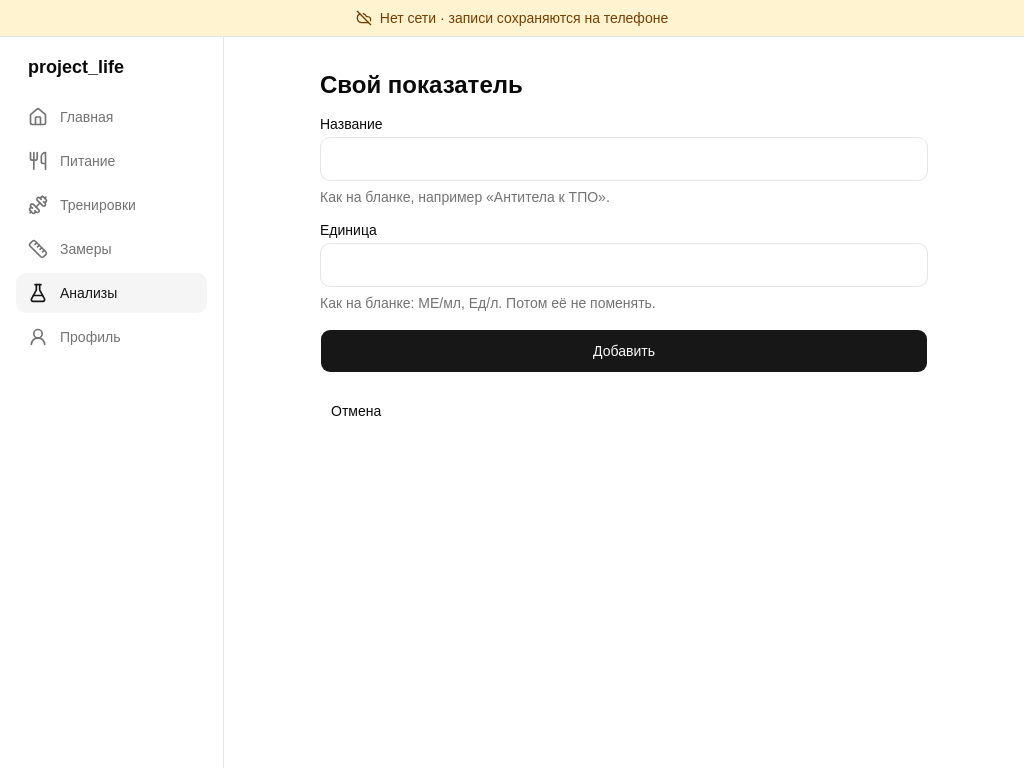
Test: свой показатель создаётся без сети и открывает форму значения с заданной единицей
Type "Кортизол свой" into the field labelled "Название".
click(624, 159); type("Кортизол свой")  # box [320,137,928,181]
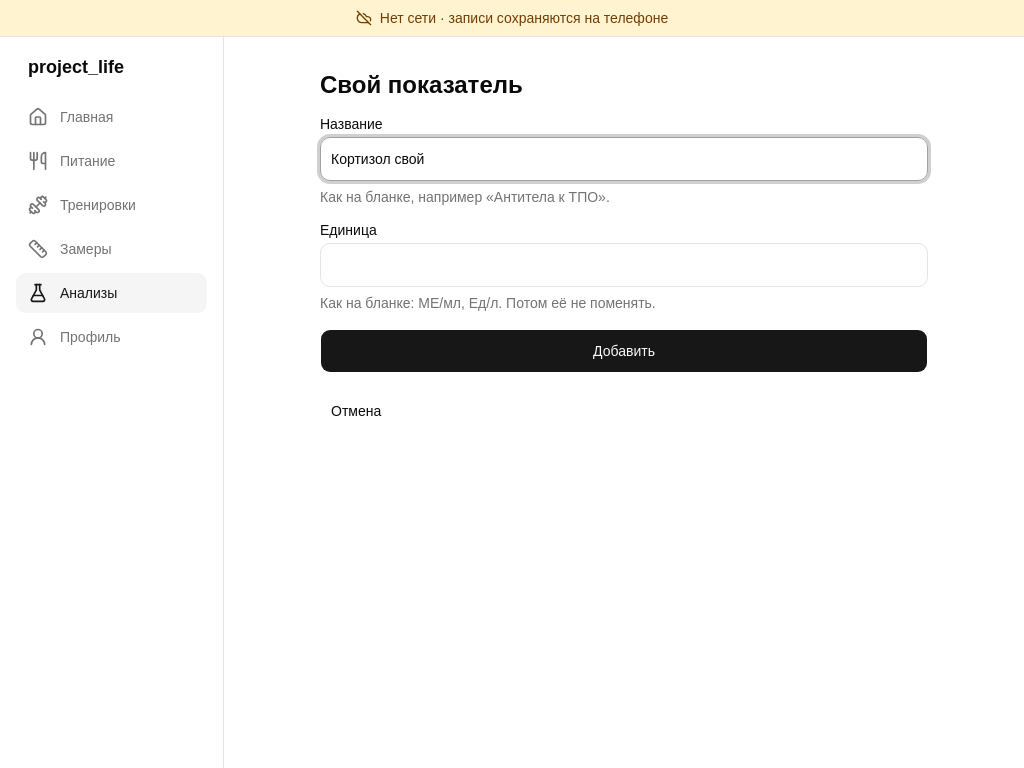
Type "мкг/дл" into the field labelled "Единица".
click(624, 265); type("мкг/дл")  # box [320,243,928,287]
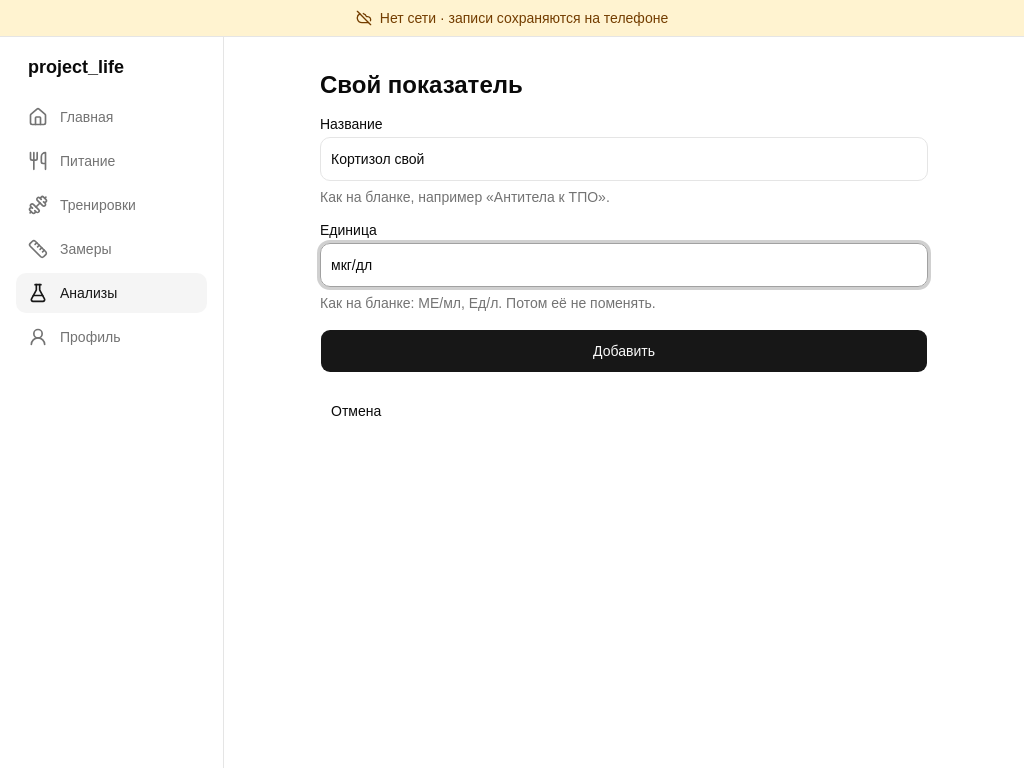
Click the button "Добавить".
click(624, 351)  # box [320,329,928,373]
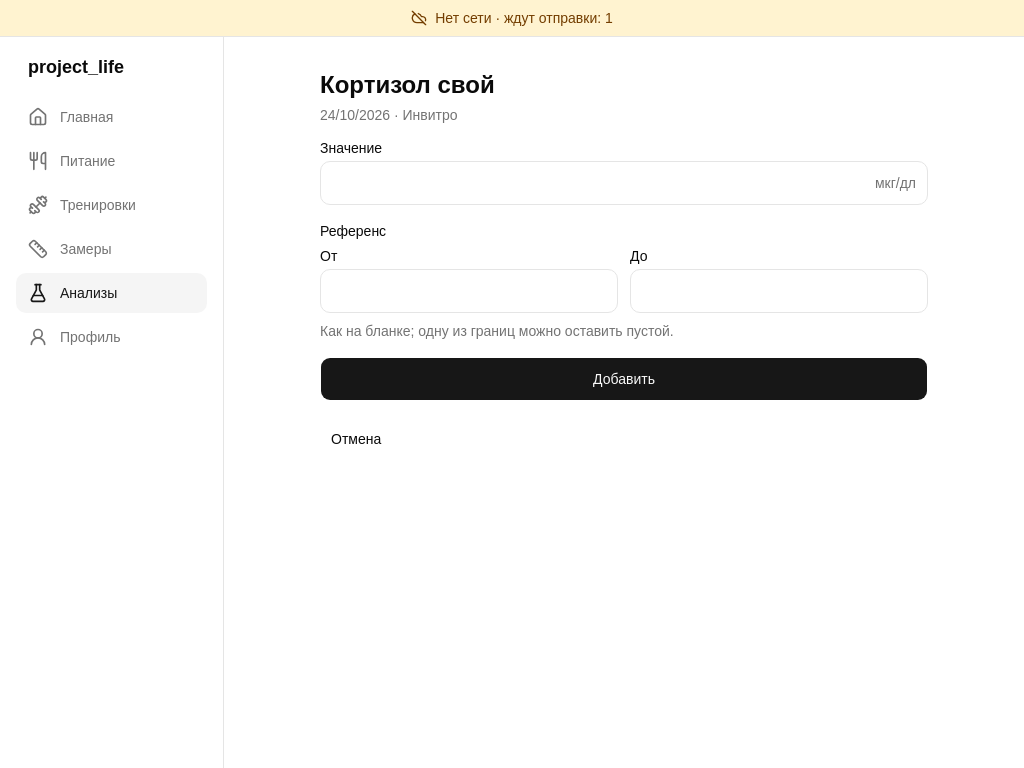
expect the heading "Кортизол свой" is shown: met, box [320,71,495,98]
Type "9.5" into the field labelled "Значение".
click(624, 183); type("9.5")  # box [320,161,928,205]
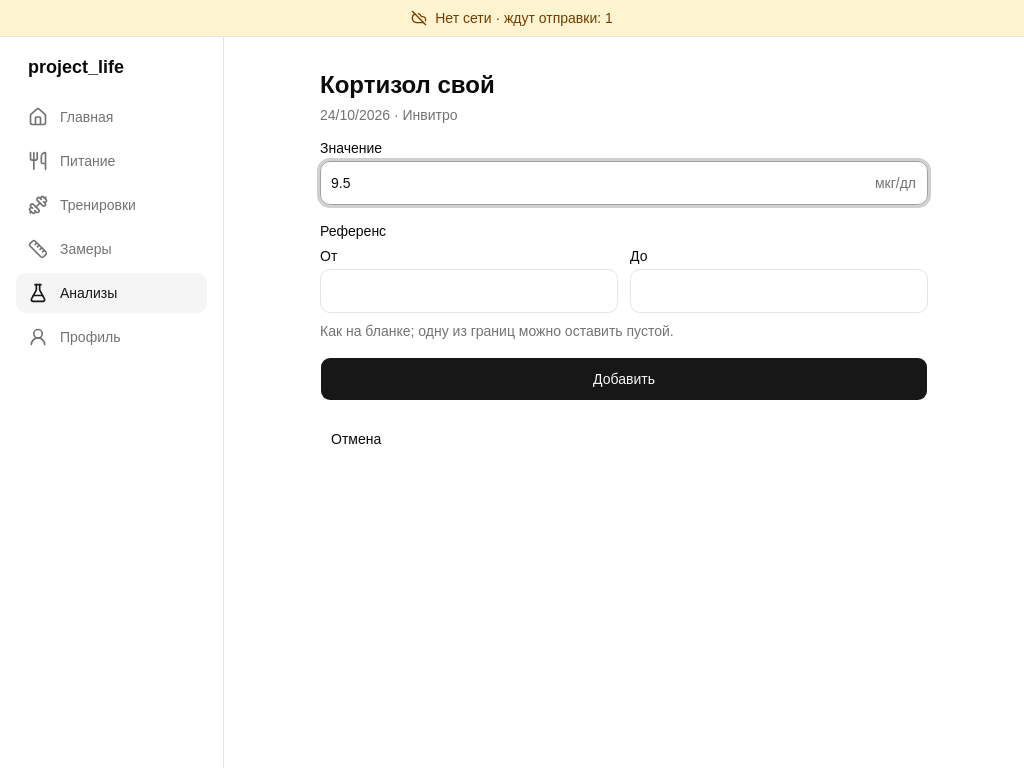
Click the button "Добавить".
click(624, 379)  # box [320,357,928,401]
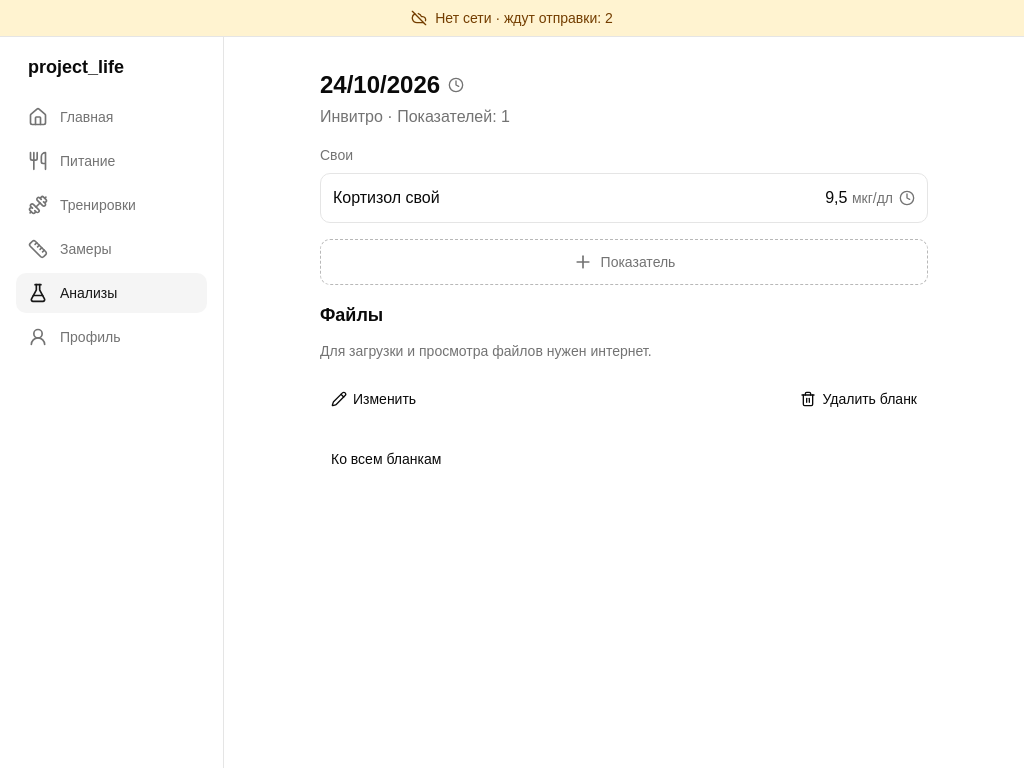
expect the link "Кортизол свой 9,5 мкг/дл" is shown: met, box [320,173,928,223]
